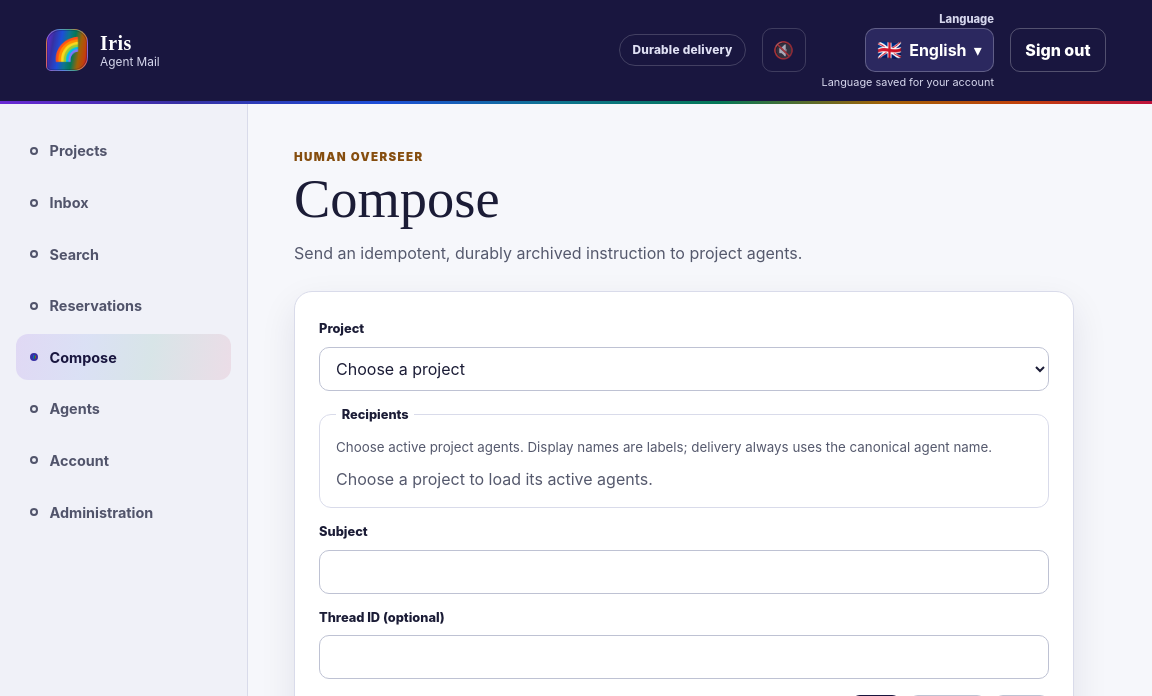
Test: Iris landing shell › caps Select all at 100 canonical recipients
Expected: the text "Language saved for your account" is shown, [822,75,994,89]
Select "/mateusz-klatt/mcp_agent_mail" in the dropdown labelled "Project" at (684, 369), box [319,347,1049,391]
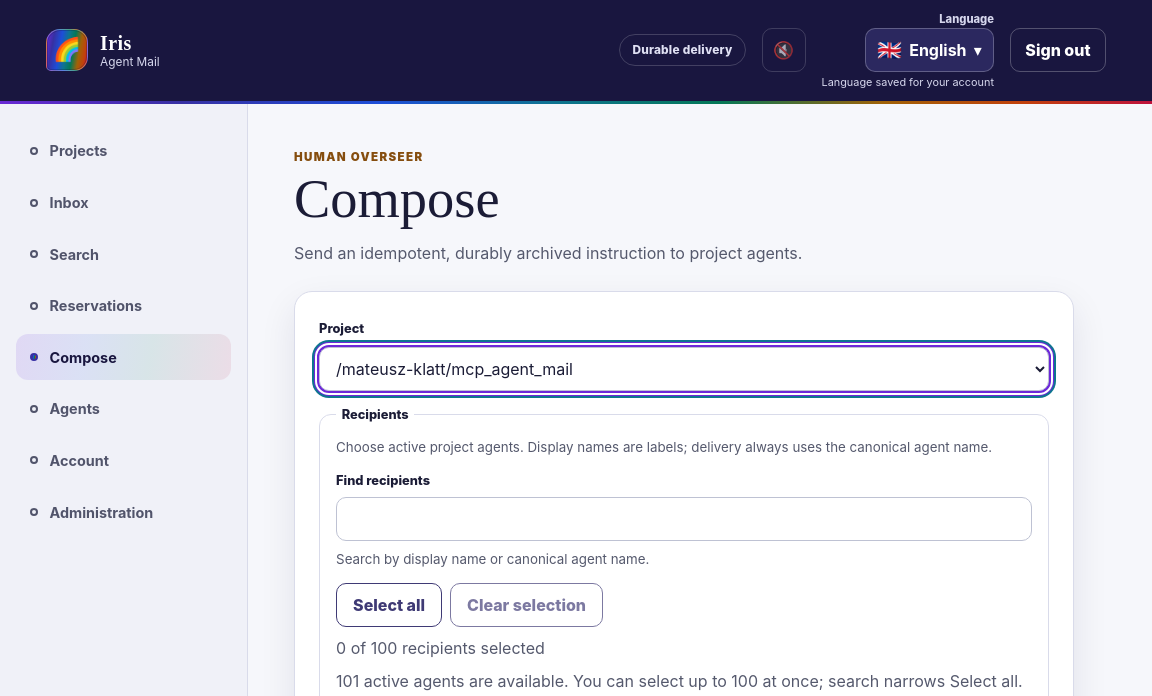
Click the button "Select all" at (389, 605), box [336,583,442,627]
(page scrolled)
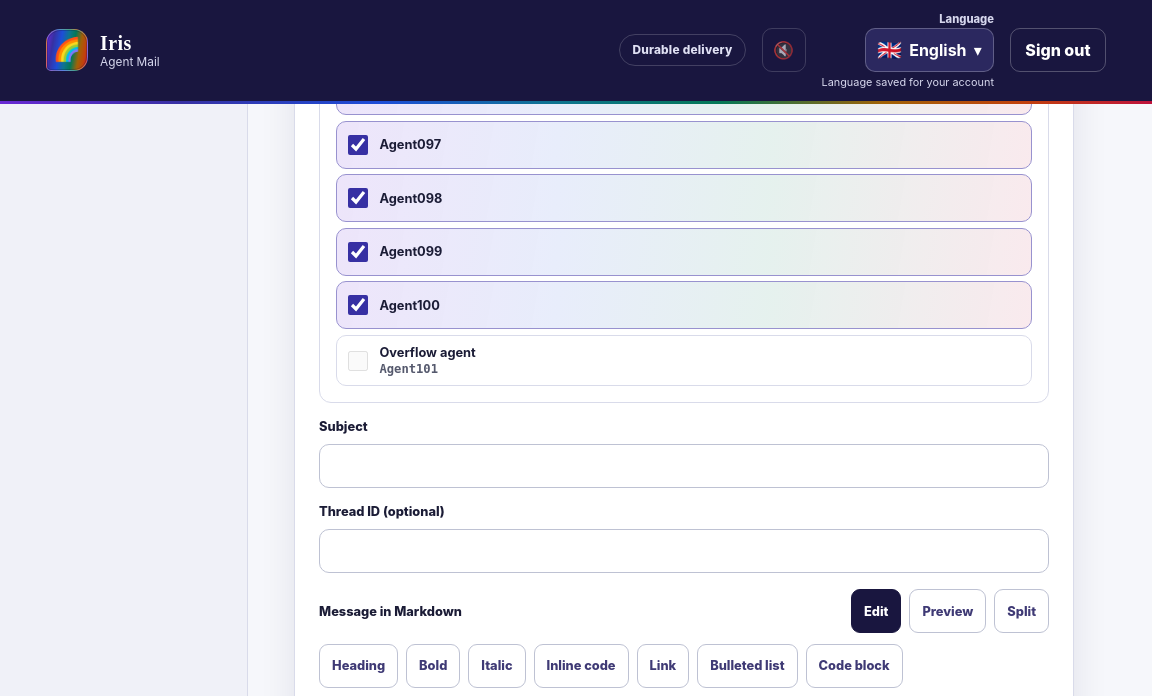
Expected: the checkbox showing "Agent101" is not checked, [348,350,368,370]
Expected: the checkbox showing "Agent100" is checked, [348,295,368,315]
Expected: the checkbox showing "Agent101" is disabled, [348,350,368,370]
